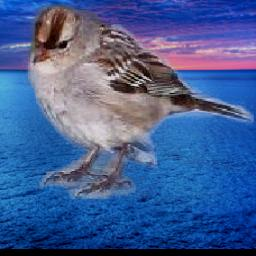Sparrow: (20, 5, 254, 200)
